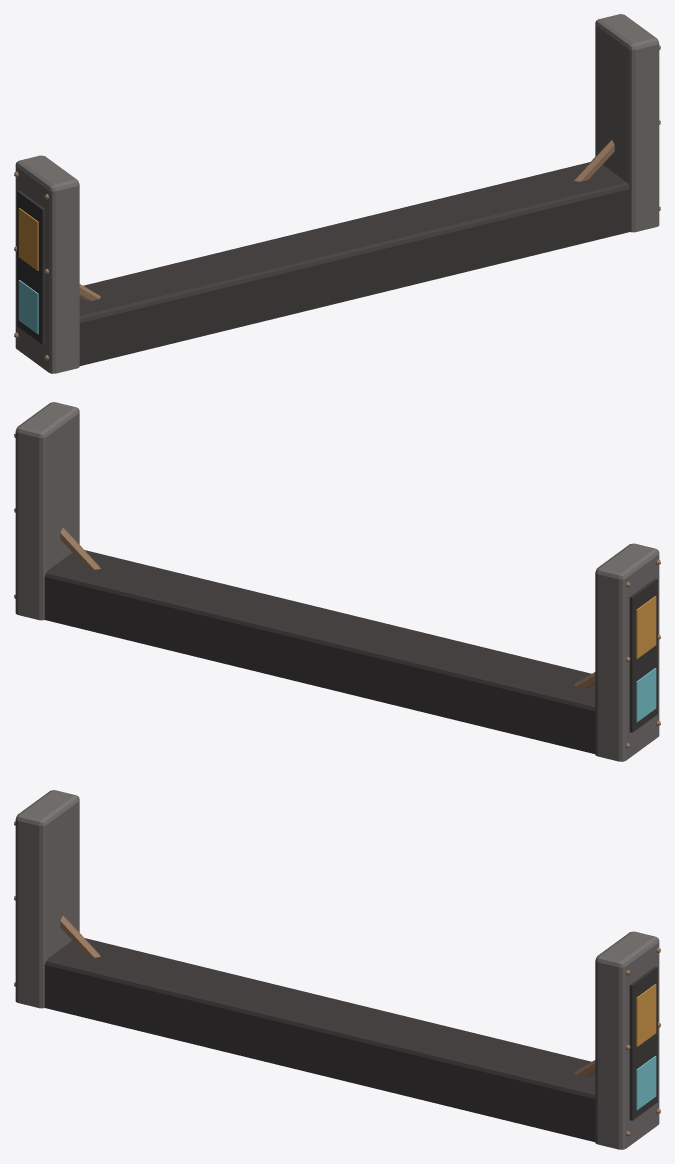
Rendered from rn2-forja-rib.glb.
The picture shows the model from 3 angles, top to bottom: view 1: azimuth 30°, elevation 25°; view 2: azimuth 150°, elevation 25°; view 3: azimuth 330°, elevation 25°; orthographic projection.
Visible parts, largest first — view 1: rn2_forja_rib_body, rn2_forja_rib_glow; view 2: rn2_forja_rib_body, rn2_forja_rib_glow; view 3: rn2_forja_rib_body, rn2_forja_rib_glow.
Part boxes in pixels (x1,y1,x2,y2): rn2_forja_rib_body: [14, 14, 660, 373]; rn2_forja_rib_glow: [18, 208, 38, 334]; rn2_forja_rib_body: [14, 402, 660, 761]; rn2_forja_rib_glow: [636, 596, 656, 722]; rn2_forja_rib_body: [14, 790, 660, 1149]; rn2_forja_rib_glow: [636, 984, 656, 1110].
Bounding box in the file's own units: 11.26 × 3.25 × 1.2.
